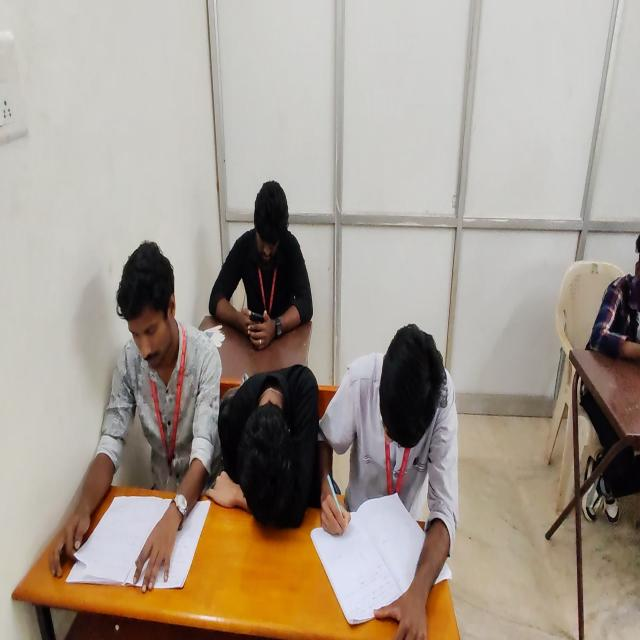reading: (49, 240, 226, 596), (318, 324, 456, 640)
sleeping: (210, 360, 322, 532)
using_mobile: (207, 180, 314, 350)
